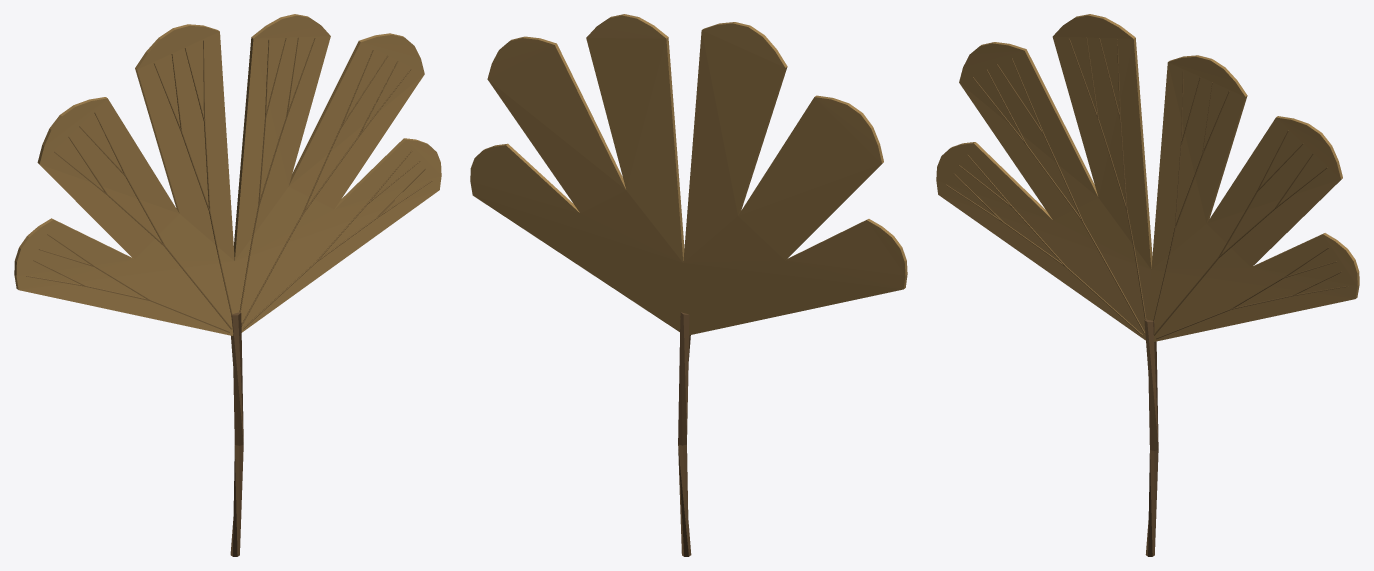
File: ginkgo.glb
3 views of the same model, side by side, from view 1: azimuth 30°, elevation 25°; view 2: azimuth 150°, elevation 25°; view 3: azimuth 330°, elevation 25° (orthographic). The views are drawn at different scales.
Visible parts, largest first — view 1: six-lobed-jurassic-ginkgo-leaf; view 2: six-lobed-jurassic-ginkgo-leaf; view 3: six-lobed-jurassic-ginkgo-leaf.
Boxes of the visible parts, x1,y1,x2,y2 form: six-lobed-jurassic-ginkgo-leaf: [14, 14, 441, 556]; six-lobed-jurassic-ginkgo-leaf: [470, 14, 907, 556]; six-lobed-jurassic-ginkgo-leaf: [936, 14, 1359, 556].
Bounding box in the file's own units: 0.1057 × 0.1275 × 0.00381.
